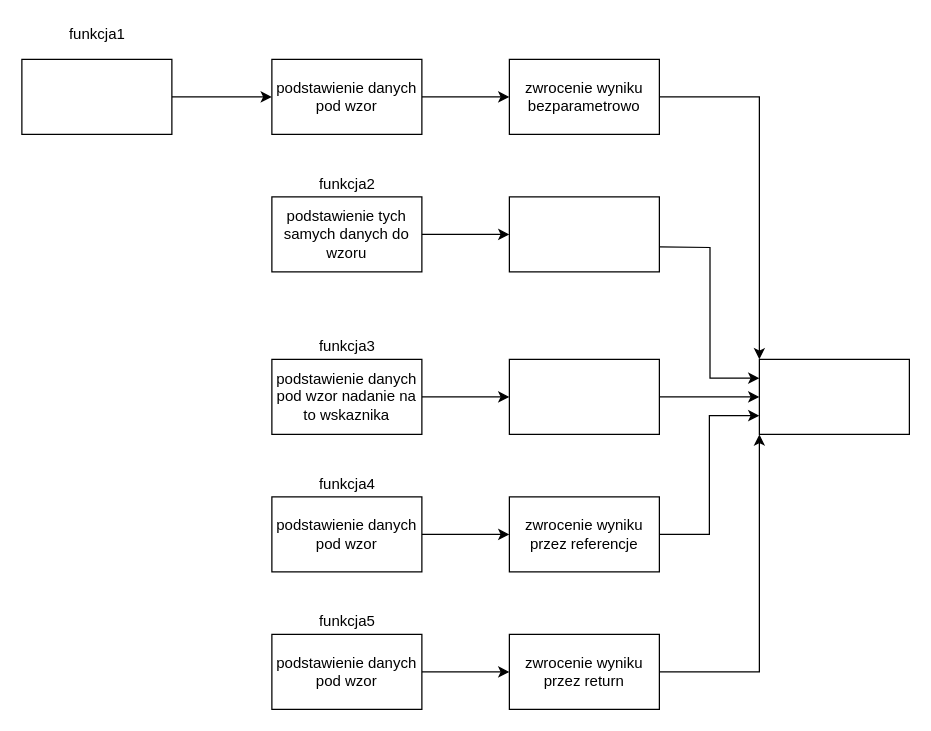
Image size: 931x731. Some labels were removed from this diagram. Here are the shapes that lost their labels. From the top down, the centre of each, then its label:
pixel 96 96: wprowadzenie danych do zmiennych w 1 funkcji
pixel 583 234: zwrocenie wartosci przez return
pixel 583 396: zwrocenie wyniku przez wskaznik
pixel 833 396: main
